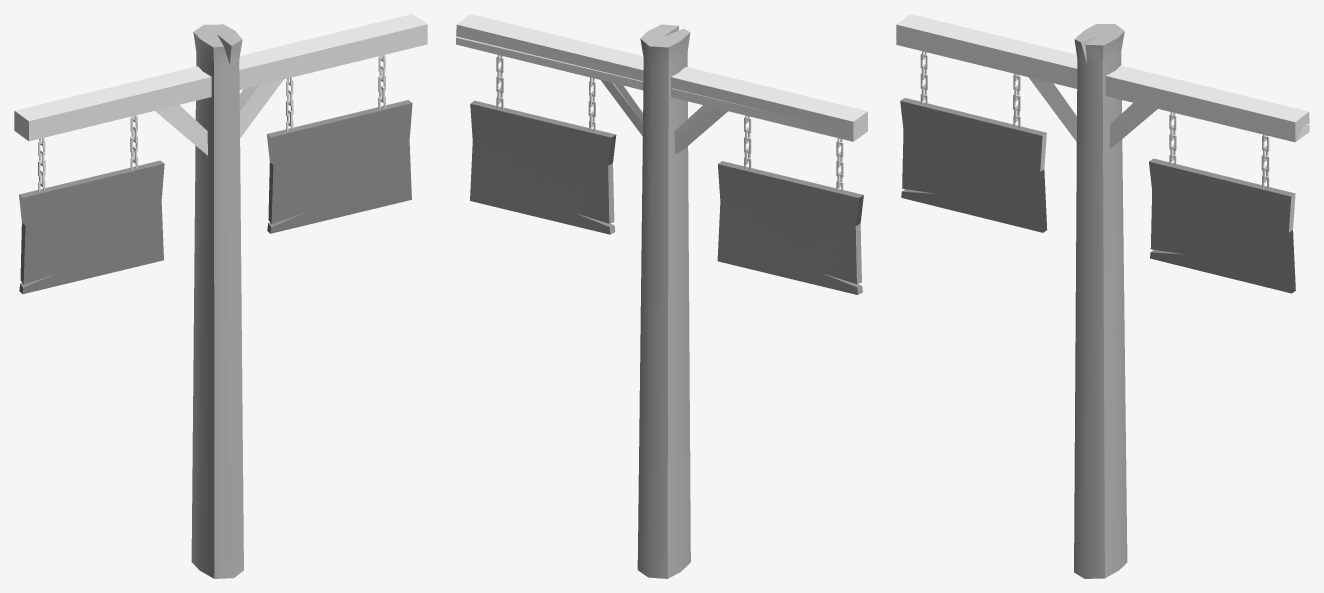
File: PT_Street_Sign_04.fbx
The picture shows the model from 3 angles, left to right: view 1: azimuth 30°, elevation 25°; view 2: azimuth 150°, elevation 25°; view 3: azimuth 330°, elevation 25°; orthographic projection.
Visible parts, largest first — view 1: PT_Street_Sign_04; view 2: PT_Street_Sign_04; view 3: PT_Street_Sign_04.
Boxes of the visible parts, box(x1,y1,x2,y2) form: PT_Street_Sign_04: box(14, 14, 427, 578); PT_Street_Sign_04: box(456, 14, 867, 578); PT_Street_Sign_04: box(896, 14, 1309, 578).
Size of the model in its own units: 316 by 402 by 43.
Materials: 1 (1 with a texture image).
